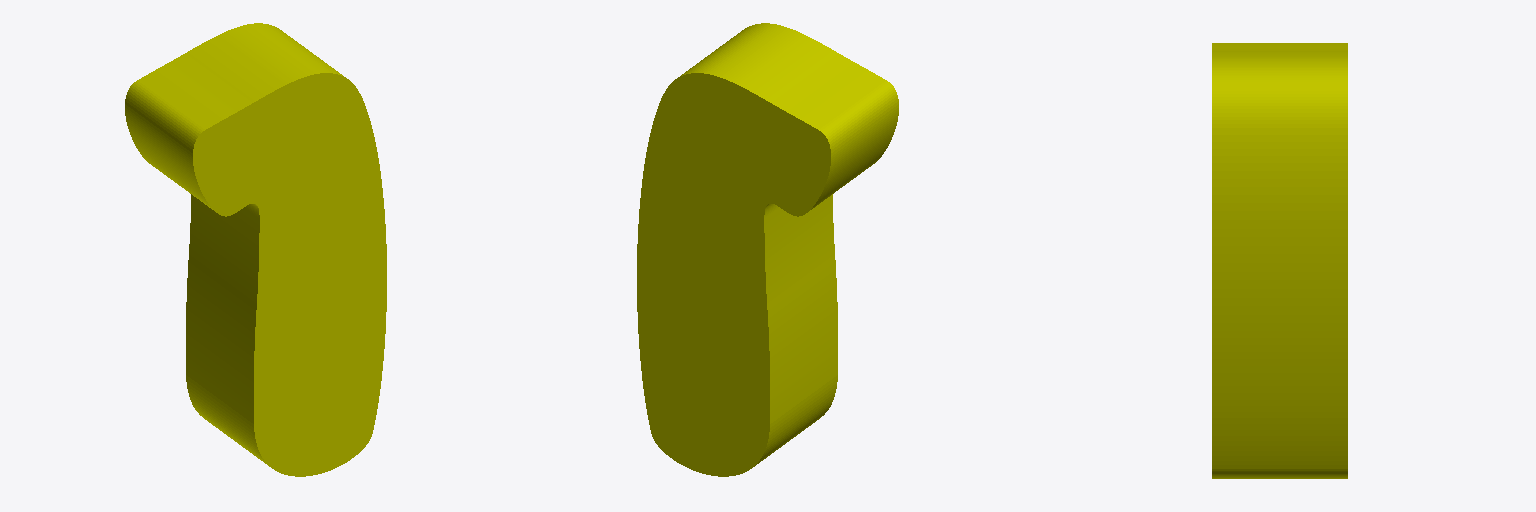
The model's file is Number1.obj.
3 renders of one model, left to right at view 1: azimuth 30°, elevation 25°; view 2: azimuth 150°, elevation 25°; view 3: azimuth 270°, elevation 25°, orthographic.
Parts seen in each view (by area): view 1: Text; view 2: Text; view 3: Text.
Part boxes in pixels (left/top/right/bottom): Text: left=125, top=23, right=386, bottom=476; Text: left=637, top=23, right=898, bottom=476; Text: left=1212, top=43, right=1347, bottom=478.
Size of the model in its own units: 0.2969 by 0.5856 by 0.18.